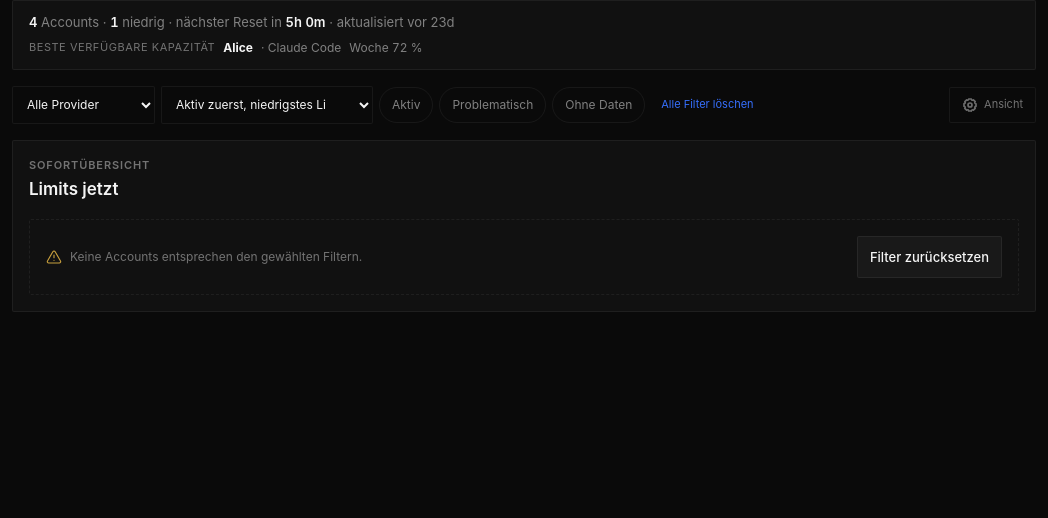
Test case: UsageOverview › zeigt bei leeren Filtern eine verständliche Meldung mit Filter-Reset
Expected: the text "Keine Accounts entsprechen den gewählten Filtern." is shown, [70,248,362,266]
Click the button "Filter zurücksetzen".
click(929, 256)  # box [857,236,1002,278]
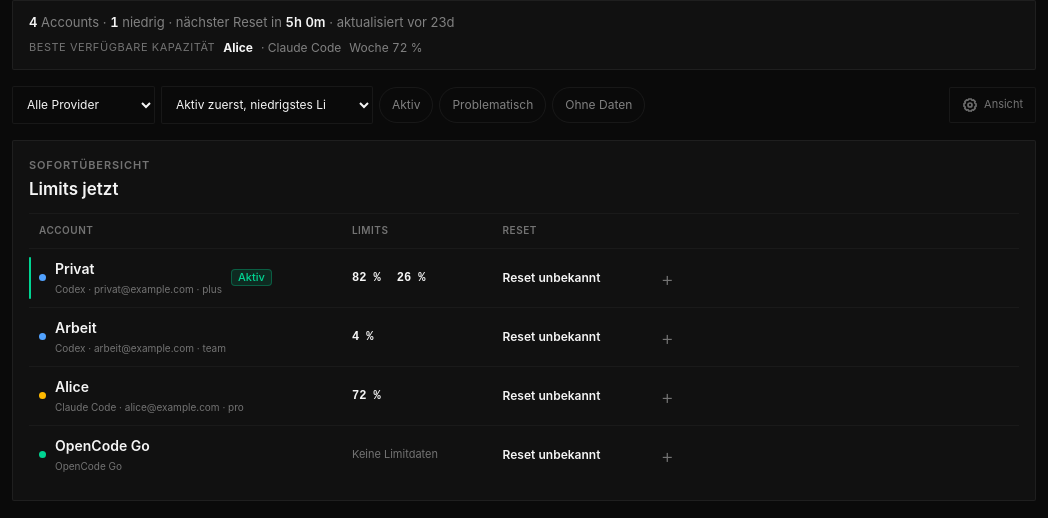
Expected: the table named "Aktuelle Limits je Account" is shown, [29,212,1019,484]
